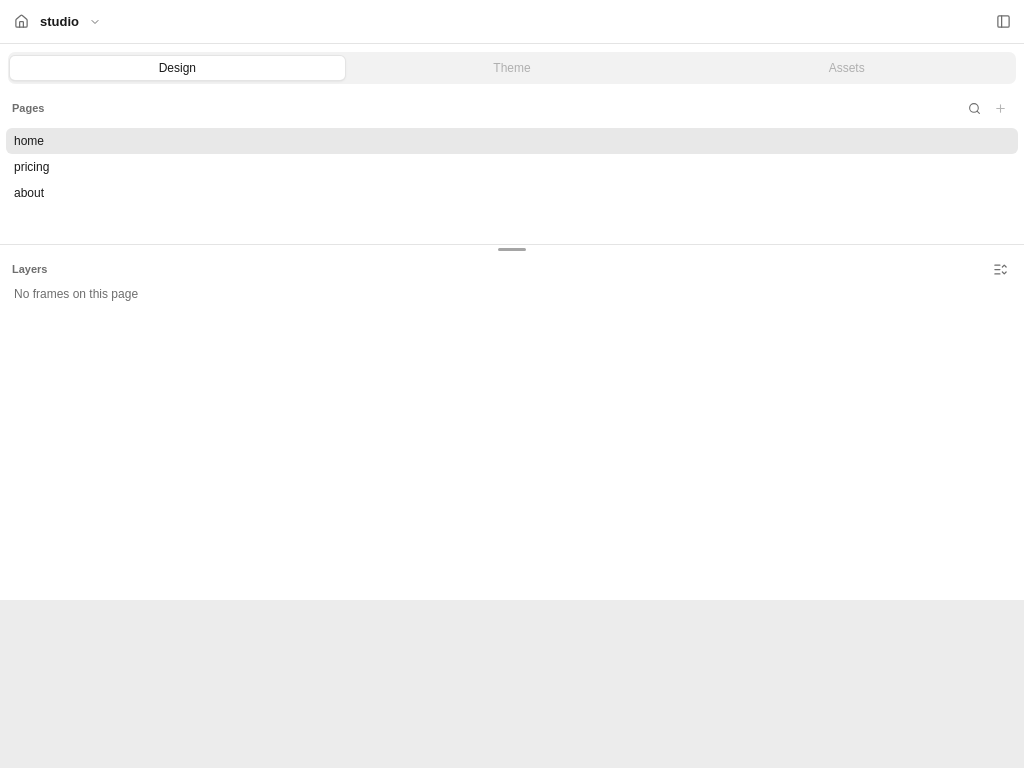
Test case: LeftPanel › pages › filters the pages by name and marks the match
Click the button named "Search pages": (974, 108) [962,96,986,120]
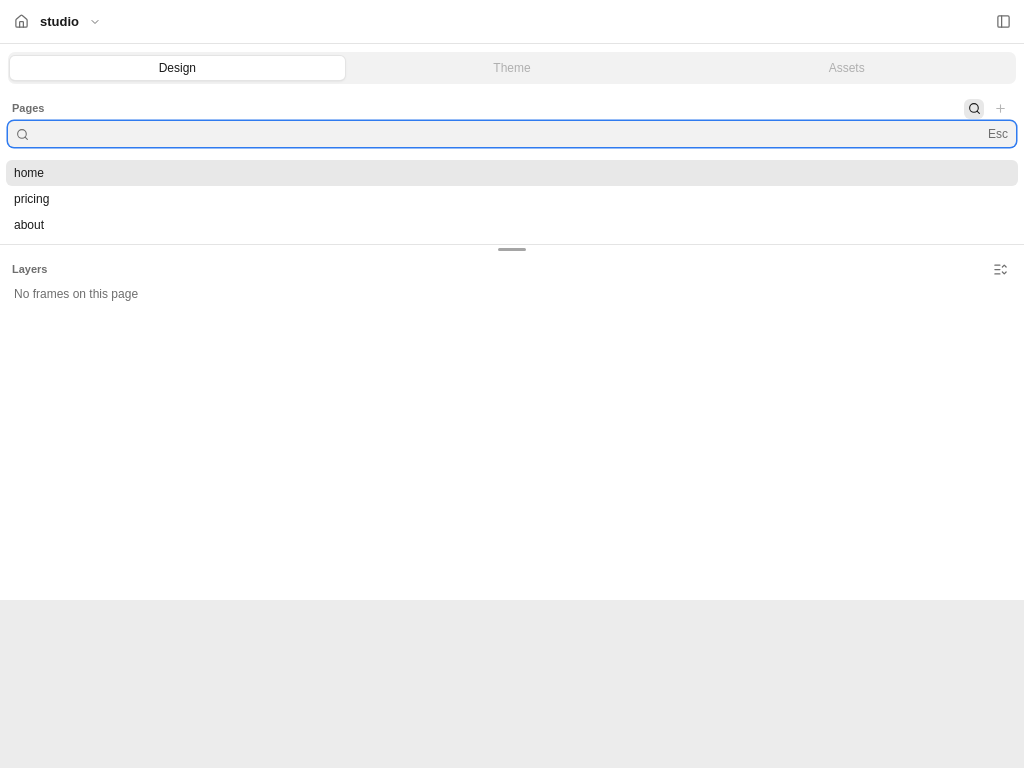
Type keys "RIC"
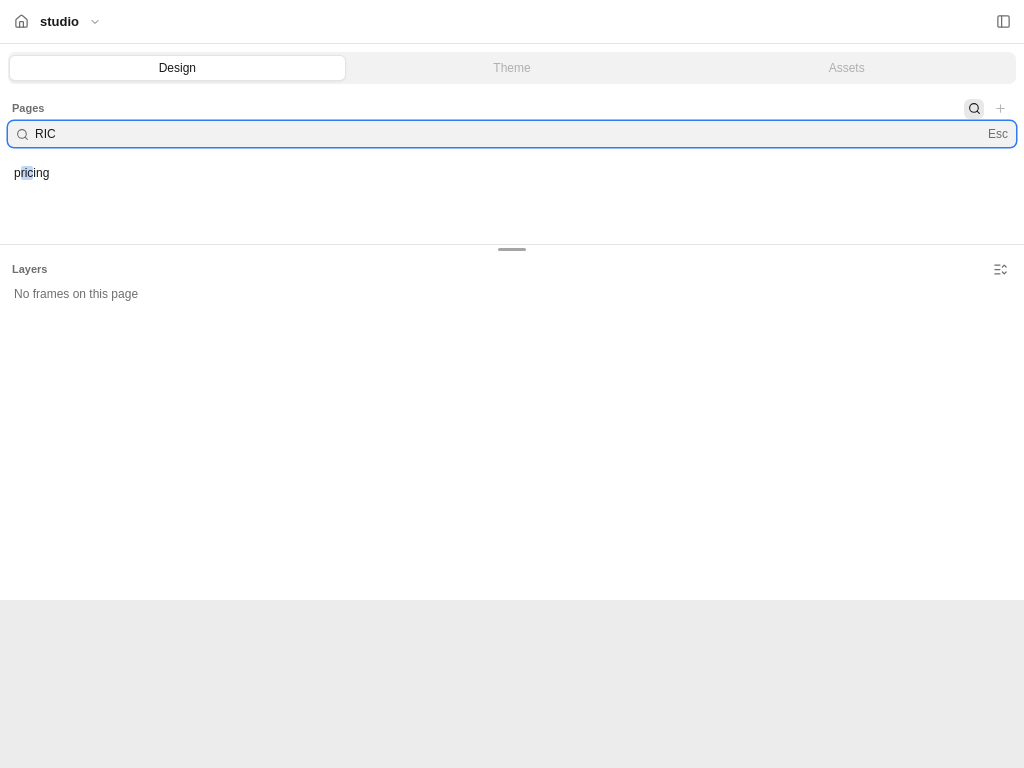
Expected: the links read "pricing", in this order, [14,166,49,180]
